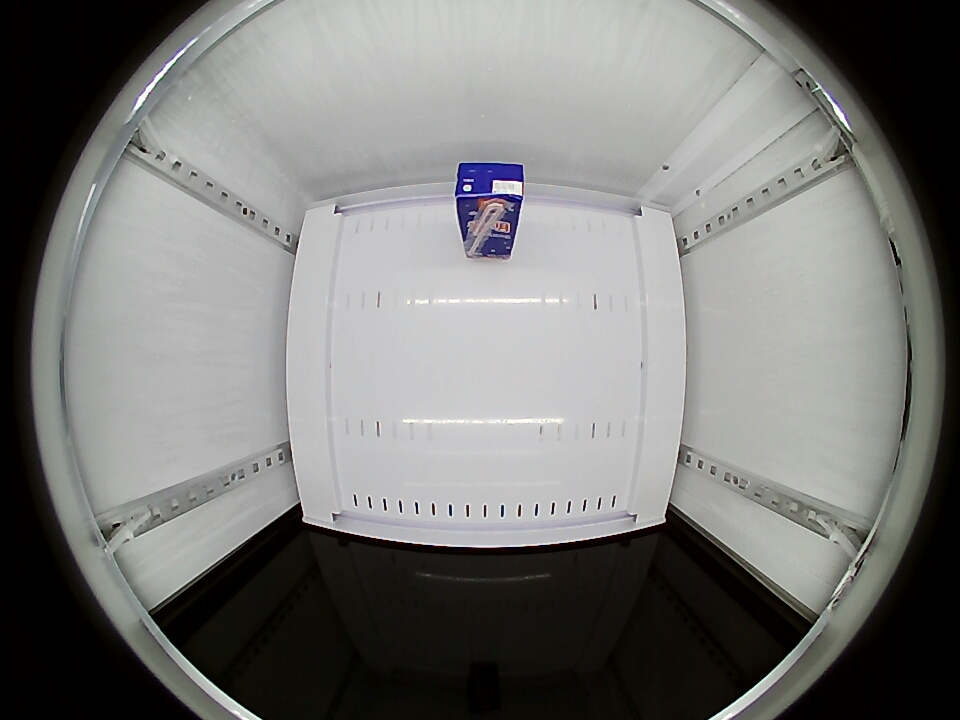bingqilinniunai: (455, 162, 525, 220)
